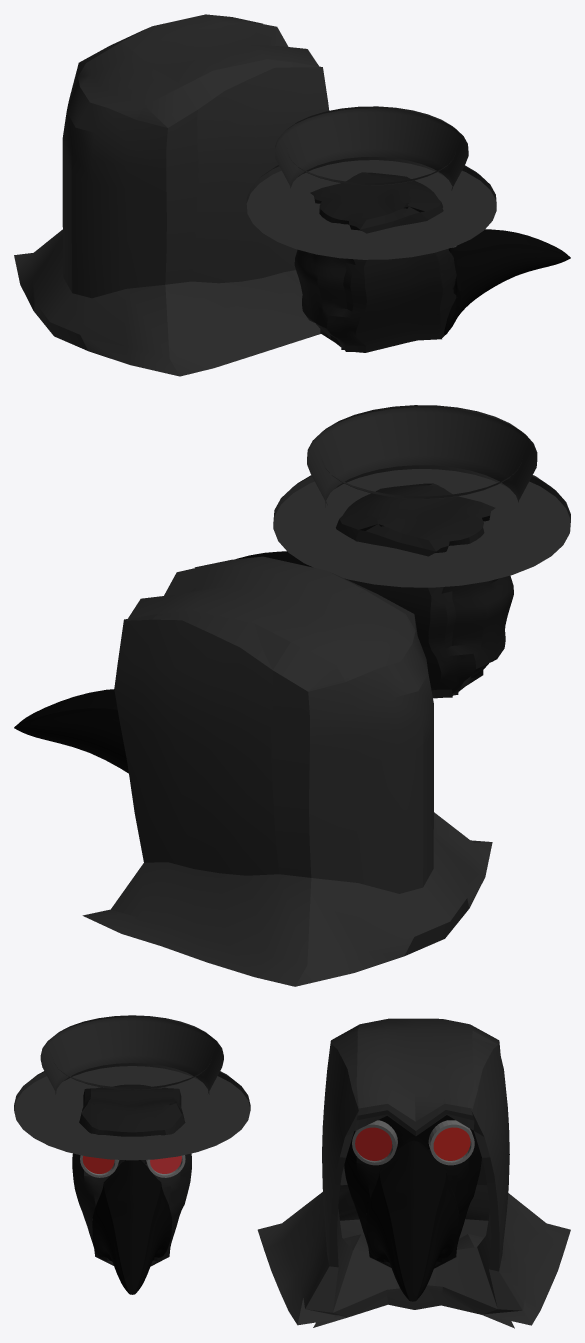
Rendered from Pestilence mask.fbx.
3 views of the same model, one above another, from view 1: azimuth 30°, elevation 25°; view 2: azimuth 150°, elevation 25°; view 3: azimuth 270°, elevation 25° (orthographic). The views are drawn at different scales.
Visible parts, largest first — view 1: Cube, Hat, HEad, Beak; view 2: Cube, Hat, HEad, Beak.001; view 3: Cube, Hat, Beak.001, HEad, Beak, HEad.001, Eyelid2.001, Eyelid.001, Eye1.001, Ey2.001, Eyelid2, Eyelid.
Boxes of the visible parts, x1=… form: Cube: x1=14, y1=14, x2=329, y2=376; Hat: x1=246, y1=106, x2=496, y2=259; HEad: x1=294, y1=172, x2=457, y2=352; Beak: x1=444, y1=229, x2=570, y2=334; Cube: x1=82, y1=556, x2=492, y2=986; Hat: x1=273, y1=405, x2=570, y2=587; HEad: x1=336, y1=483, x2=513, y2=698; Beak.001: x1=14, y1=689, x2=128, y2=773; Cube: x1=257, y1=1018, x2=570, y2=1328; Hat: x1=14, y1=1015, x2=250, y2=1160; Beak.001: x1=366, y1=1140, x2=459, y2=1301; HEad: x1=72, y1=1084, x2=191, y2=1266; Beak: x1=92, y1=1160, x2=172, y2=1294; HEad.001: x1=344, y1=1115, x2=481, y2=1268; Eyelid2.001: x1=433, y1=1127, x2=470, y2=1160; Eyelid.001: x1=355, y1=1127, x2=392, y2=1160; Eye1.001: x1=428, y1=1120, x2=474, y2=1165; Ey2.001: x1=352, y1=1120, x2=397, y2=1165; Eyelid2: x1=150, y1=1155, x2=181, y2=1173; Eyelid: x1=82, y1=1156, x2=114, y2=1173.
Size of the model in its own units: 876 by 609 by 1207.
